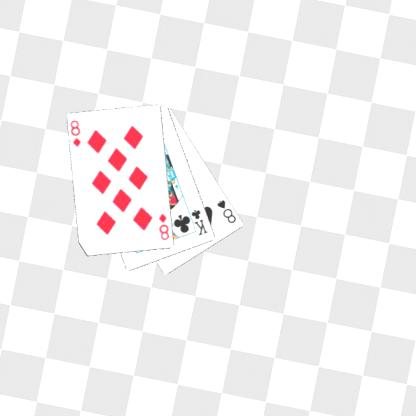8D: (156, 210, 170, 242), (68, 118, 82, 149)
8S: (214, 197, 238, 224)
KC: (184, 206, 209, 237)
